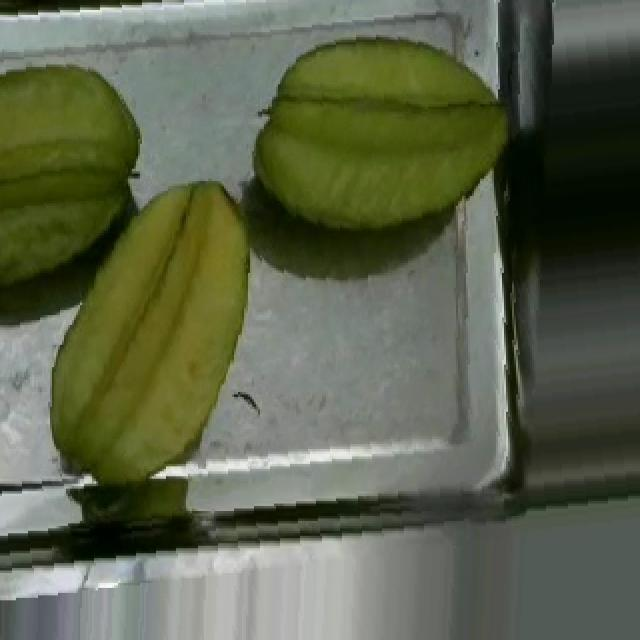fruit: (34, 166, 270, 506), (242, 27, 520, 246), (0, 47, 154, 308)
